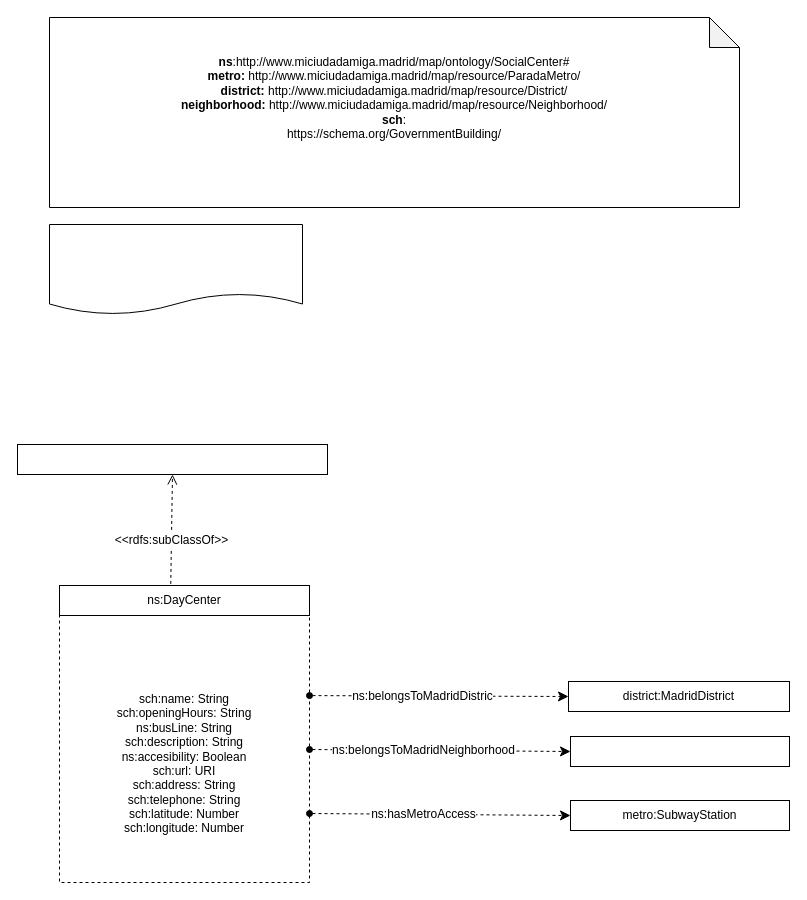
The diagram is 807 pixels wide and 900 high, and some of its shapes have lost their labels. The shapes that lost their labels are listed below. From the top down, each one's centre as x and y in pixels, then its label:
At [175,269]: "dc:creator: Group21 owl:versionInfo: 0.1.5 dc:title: Social Center Ontology".
At [172,459]: "sch :".
At [680,751]: "neighborhood:MadridNeighborhood".
